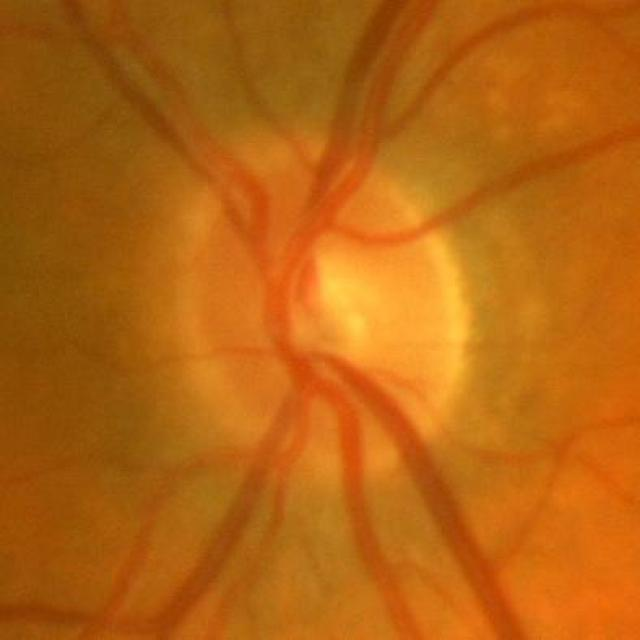OC: (286, 241, 396, 353)
OD: (181, 148, 475, 478)
